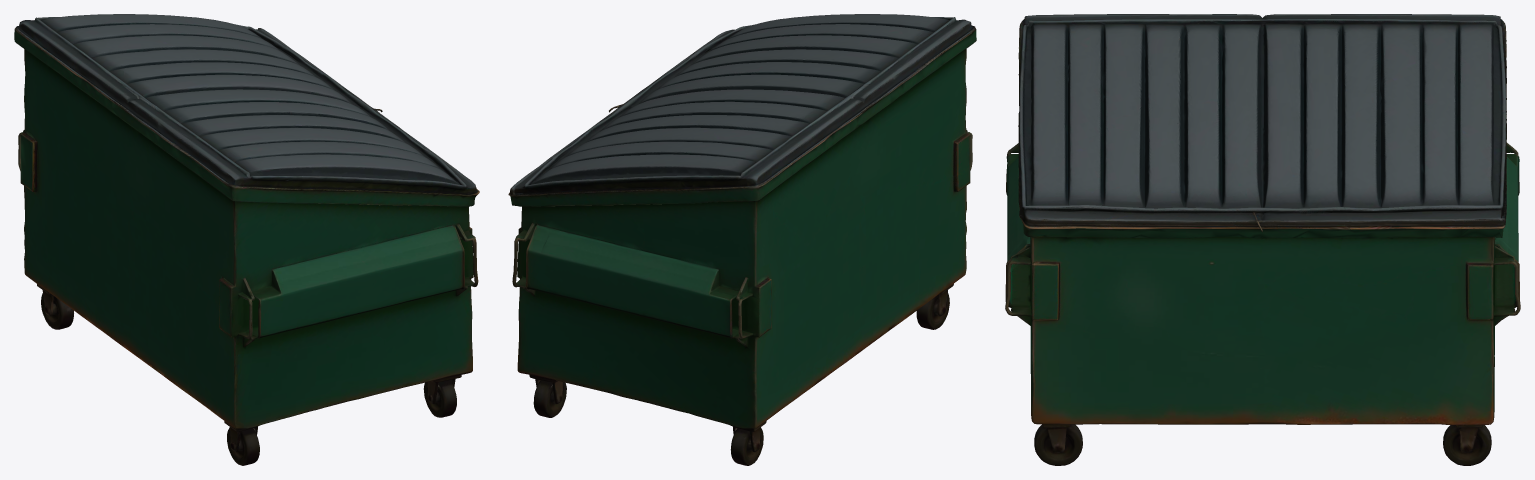
Rendered from dumpster3d.glb.
The picture shows the model from 3 angles, left to right: view 1: azimuth 30°, elevation 25°; view 2: azimuth 150°, elevation 25°; view 3: azimuth 270°, elevation 25°; orthographic projection. The views are drawn at different scales.
Visible parts, largest first — view 1: tripo_node_24b4700d-ae6c-4d09-8dd7-2fe0b43b6580; view 2: tripo_node_24b4700d-ae6c-4d09-8dd7-2fe0b43b6580; view 3: tripo_node_24b4700d-ae6c-4d09-8dd7-2fe0b43b6580.
Boxes of the visible parts, bbox=[...] form: tripo_node_24b4700d-ae6c-4d09-8dd7-2fe0b43b6580: bbox=[14, 14, 479, 465]; tripo_node_24b4700d-ae6c-4d09-8dd7-2fe0b43b6580: bbox=[508, 14, 976, 465]; tripo_node_24b4700d-ae6c-4d09-8dd7-2fe0b43b6580: bbox=[1005, 14, 1520, 465].
Size of the model in its own units: 0.6439 by 0.7128 by 1.
Materials: 1 (1 with a texture image).
